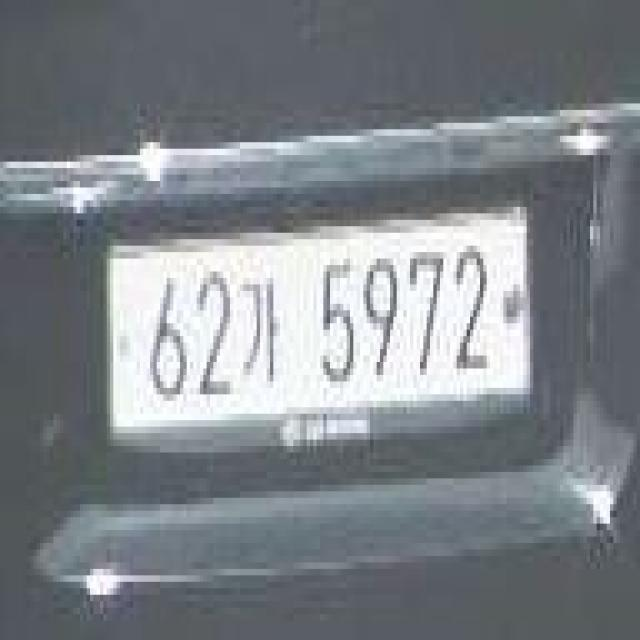2: (452, 244, 492, 390), (197, 264, 234, 404)
5: (317, 252, 358, 388)
6: (148, 273, 188, 402)
7: (408, 246, 446, 378)
9: (362, 252, 401, 391)
ga: (239, 268, 284, 397)
license_plate: (97, 217, 542, 434)
